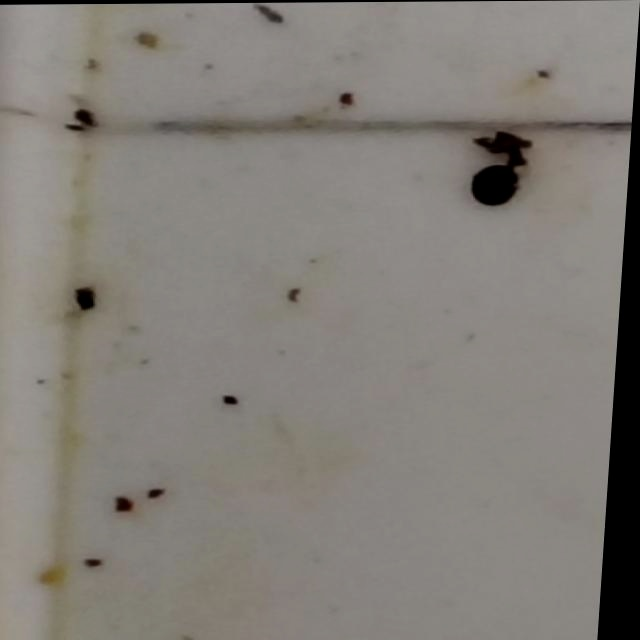varroa: (469, 162, 525, 211)
